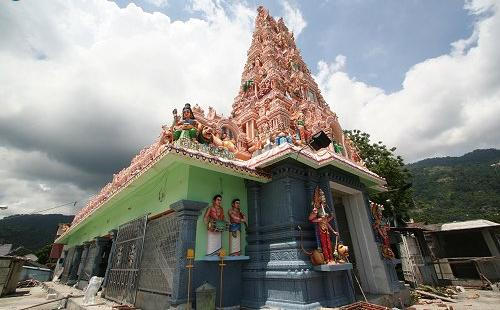Hindu Temple: (79, 2, 398, 299)
